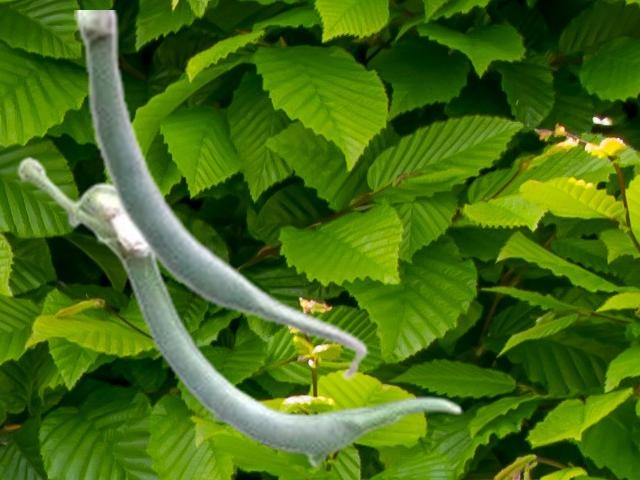french_bean: (16, 155, 462, 468), (74, 10, 368, 382)
